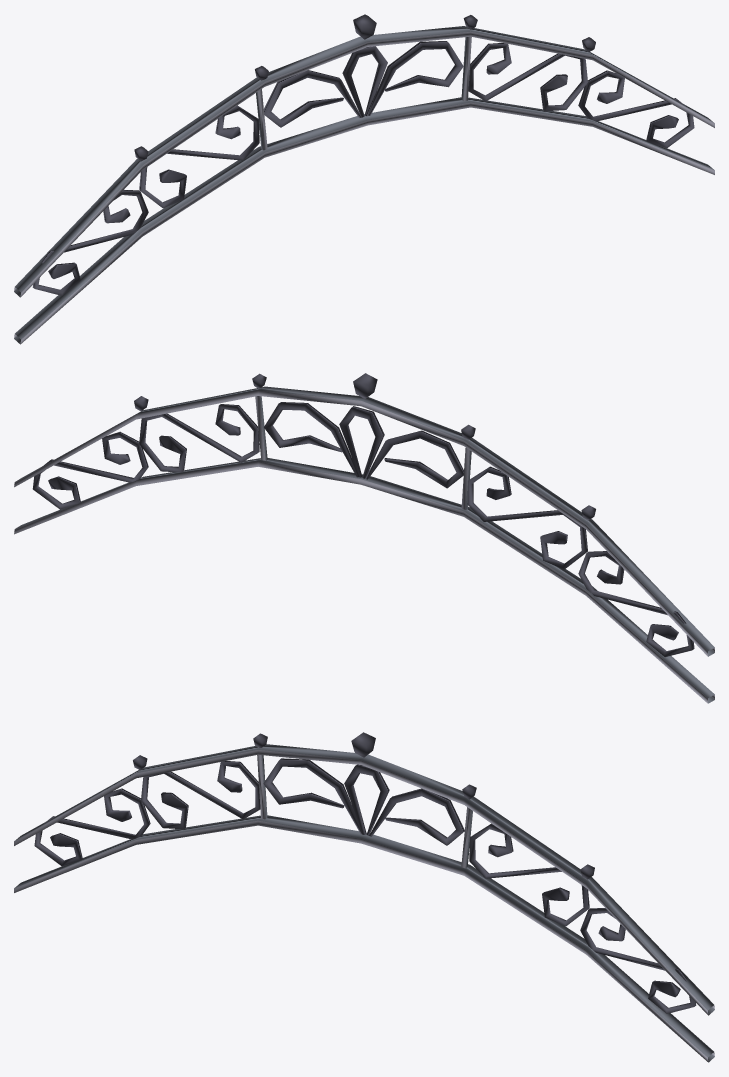
Rendered from HWN20_IronEntranceArch_01.gltf.
The picture shows the model from 3 angles, top to bottom: view 1: azimuth 30°, elevation 25°; view 2: azimuth 150°, elevation 25°; view 3: azimuth 330°, elevation 25°; orthographic projection.
Parts seen in each view (by area): view 1: HWN20_IronEntranceArch_01_glb; view 2: HWN20_IronEntranceArch_01_glb; view 3: HWN20_IronEntranceArch_01_glb.
Part boxes in pixels (x1,y1,x2,y2): HWN20_IronEntranceArch_01_glb: (14,14,714,344); HWN20_IronEntranceArch_01_glb: (14,373,714,703); HWN20_IronEntranceArch_01_glb: (14,732,714,1062).
Size of what is drawn, in the model's own units: 9.21 by 3.09 by 0.204.
1 material, 1 textured.
